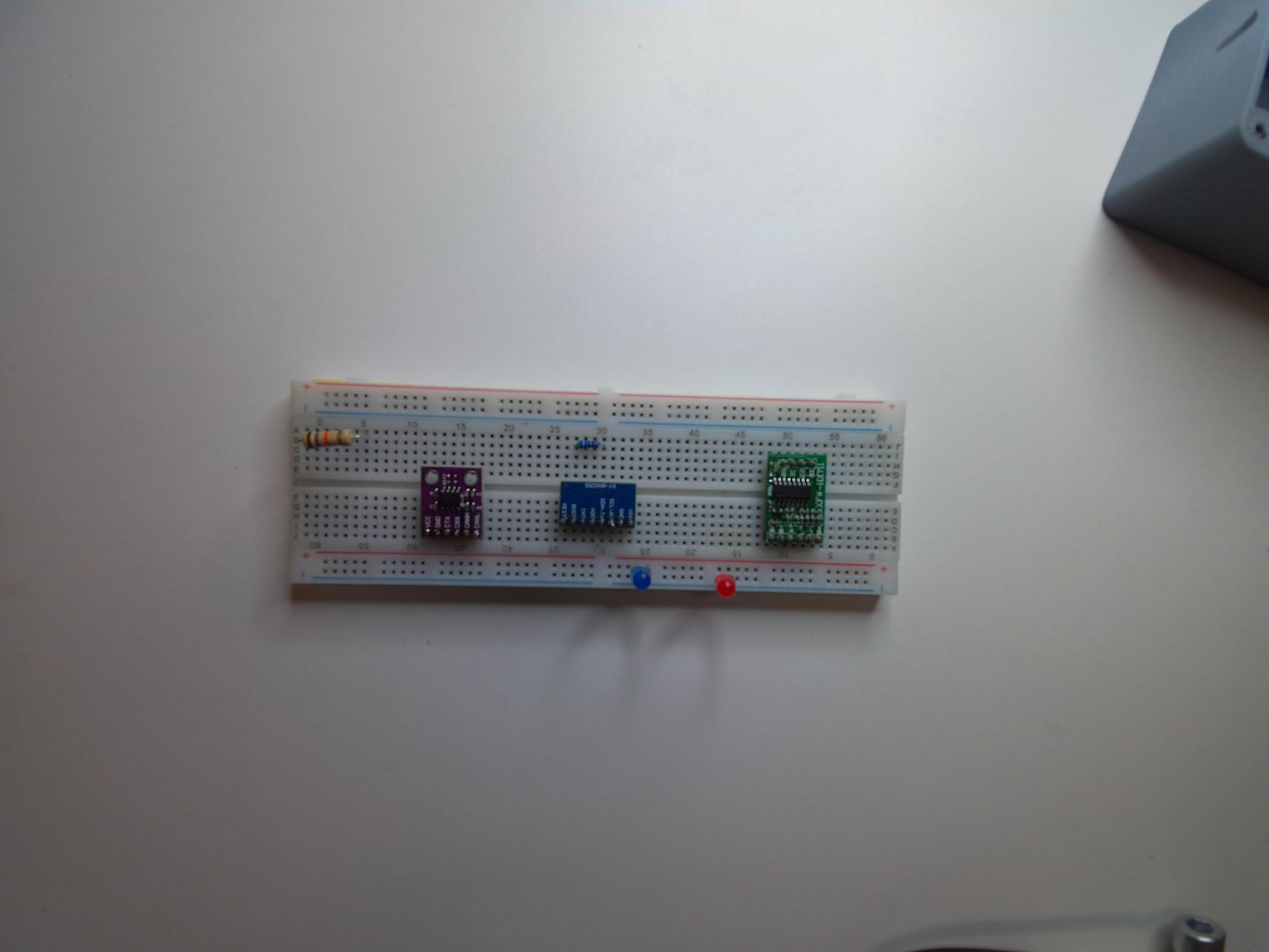base: (283, 380, 910, 603)
blue-board: (557, 480, 637, 535)
blue-led: (629, 560, 652, 590)
green-board: (759, 450, 830, 546)
purple-board: (420, 463, 483, 543)
red-led: (713, 566, 739, 603)
resistor-big: (303, 429, 358, 450)
resistor-small: (572, 434, 602, 455)
